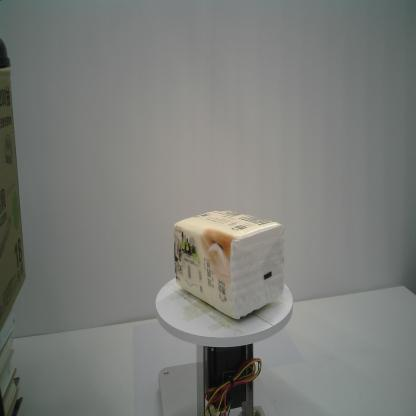Tissue: (173, 208, 285, 322)
